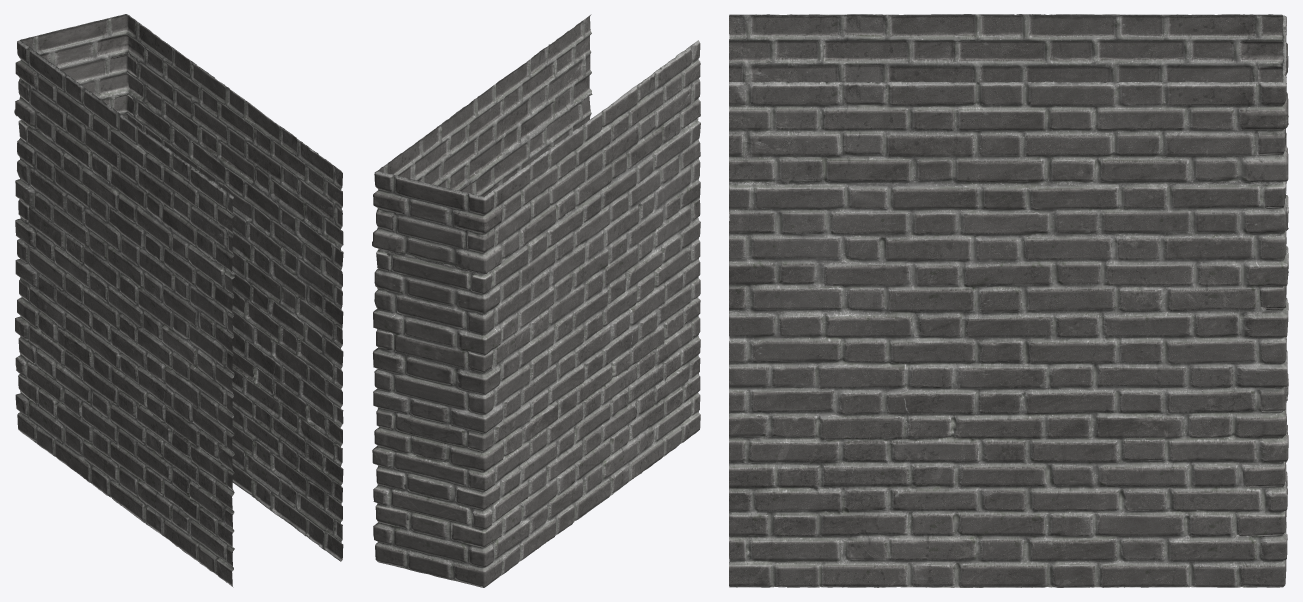
The model's file is SM_Sewer_Wall_Brick_01c.fbx.
3 renders of one model, left to right at view 1: azimuth 30°, elevation 25°; view 2: azimuth 150°, elevation 25°; view 3: azimuth 270°, elevation 25°, orthographic. The views are drawn at different scales.
Parts seen in each view (by area): view 1: SM_Sewer_Wall_Brick_01c_LOD0; view 2: SM_Sewer_Wall_Brick_01c_LOD0; view 3: SM_Sewer_Wall_Brick_01c_LOD0.
Boxes of the visible parts, left/top/right/bottom form: SM_Sewer_Wall_Brick_01c_LOD0: left=14, top=14, right=343, bottom=587; SM_Sewer_Wall_Brick_01c_LOD0: left=372, top=14, right=700, bottom=587; SM_Sewer_Wall_Brick_01c_LOD0: left=729, top=14, right=1288, bottom=587.
Size of the model in its own units: 61.24 by 201 by 200.
